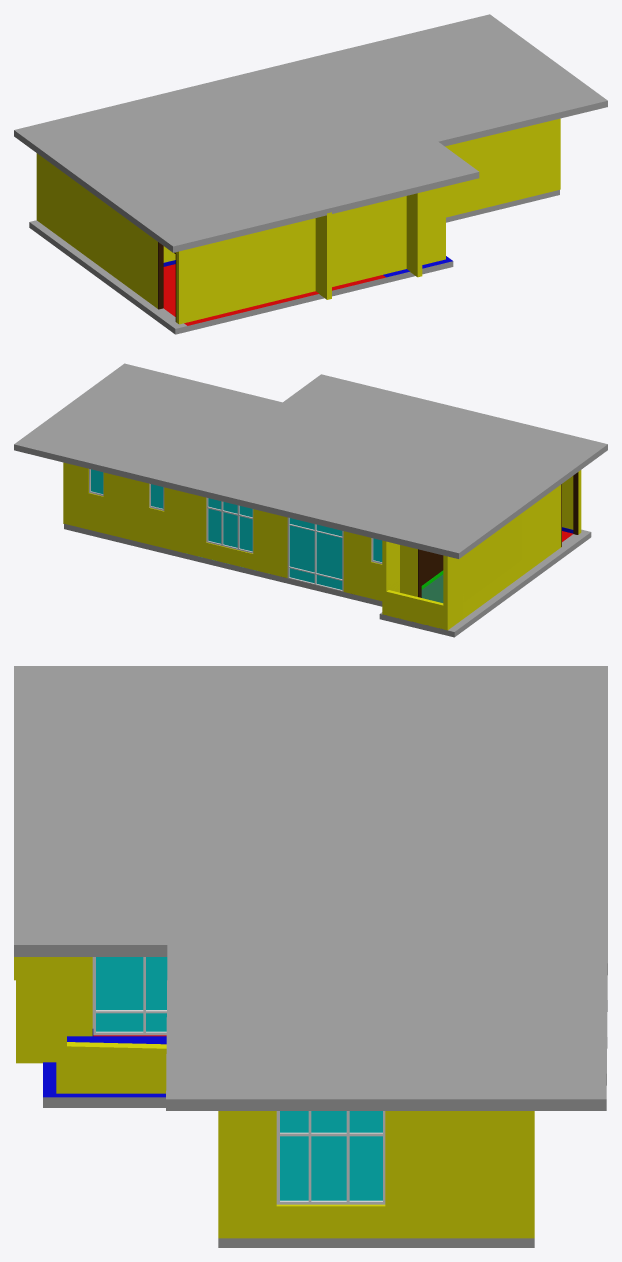
File: Wing_B_Flat_No_02_Type02MtID.fbx
The picture shows the model from 3 angles, top to bottom: view 1: azimuth 30°, elevation 25°; view 2: azimuth 150°, elevation 25°; view 3: azimuth 270°, elevation 25°; orthographic projection. The views are drawn at different scales.
Parts seen in each view (by area): view 1: Roof1, Walls, Floor, Wing_A_Flat_No_04_Type02:Flat_No_03_Type03:pCube7; view 2: Roof1, Walls, Floor, balacony_door:Door_Glass1, Wing_A_Flat_No_04_Type02:Glass1, balacony_door:Flat_No_03_Type03:Door_frame_03, Wing_A_Flat_No_04_Type02:Window_Frame, Wing_A_Flat_No_04_Type02:Flat_No_03_Type03:pCube7; view 3: Roof1, Walls, Wing_A_Flat_No_04_Type02:Flat_No_03_Type03:Glass1, Floor, Wing_A_Flat_No_04_Type02:Flat_No_03_Type03:Door_Glass1, Wing_A_Flat_No_04_Type02:Flat_No_03_Type03:Window_Frame, Wing_A_Flat_No_04_Type02:Flat_No_03_Type03:Door_frame_03.
Part boxes in pixels (x1,y1,x2,y2): Roof1: (14, 14, 607, 252); Walls: (36, 118, 560, 324); Floor: (29, 190, 559, 334); Wing_A_Flat_No_04_Type02:Flat_No_03_Type03:pCube7: (158, 242, 176, 321); Roof1: (14, 363, 607, 558); Walls: (63, 462, 581, 630); Floor: (64, 523, 591, 637); balacony_door:Door_Glass1: (289, 518, 342, 589); Wing_A_Flat_No_04_Type02:Glass1: (208, 498, 252, 551); balacony_door:Flat_No_03_Type03:Door_frame_03: (287, 517, 343, 591); Wing_A_Flat_No_04_Type02:Window_Frame: (206, 497, 253, 553); Wing_A_Flat_No_04_Type02:Flat_No_03_Type03:pCube7: (561, 472, 578, 546); Roof1: (14, 666, 607, 1110); Walls: (14, 957, 534, 1238); Wing_A_Flat_No_04_Type02:Flat_No_03_Type03:Glass1: (280, 1111, 382, 1200); Floor: (43, 1035, 534, 1247); Wing_A_Flat_No_04_Type02:Flat_No_03_Type03:Door_Glass1: (96, 957, 167, 1031); Wing_A_Flat_No_04_Type02:Flat_No_03_Type03:Window_Frame: (276, 1111, 385, 1204); Wing_A_Flat_No_04_Type02:Flat_No_03_Type03:Door_frame_03: (92, 957, 166, 1035).
Bounding box in the file's own units: 1722 × 333 × 998.
